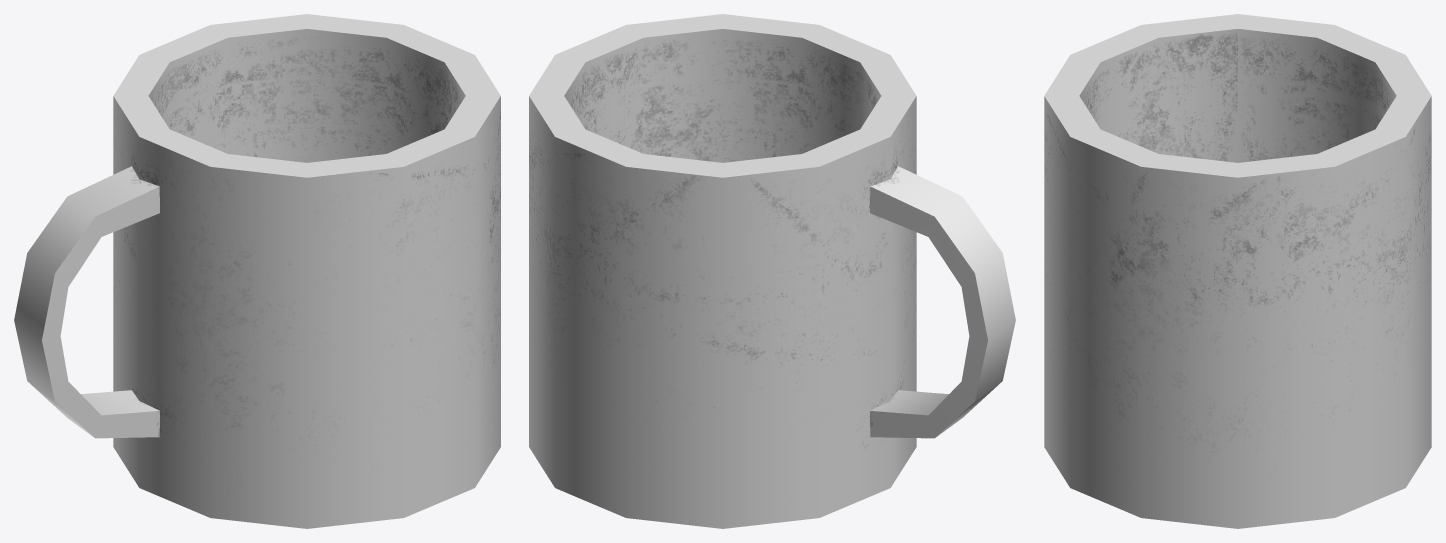
The model's file is Mug_AA.fbx.
3 views of the same model, side by side, from view 1: azimuth 30°, elevation 25°; view 2: azimuth 150°, elevation 25°; view 3: azimuth 270°, elevation 25° (orthographic).
Visible parts, largest first — view 1: Mug_AA; view 2: Mug_AA; view 3: Mug_AA.
Part boxes in pixels (<box>): Mug_AA: <box>14,14,500,528</box>; Mug_AA: <box>529,14,1015,528</box>; Mug_AA: <box>1044,14,1431,528</box>.
Size of the model in its own units: 0.2298 by 0.1725 by 0.1725.
Materials: 1 (1 with a texture image).
